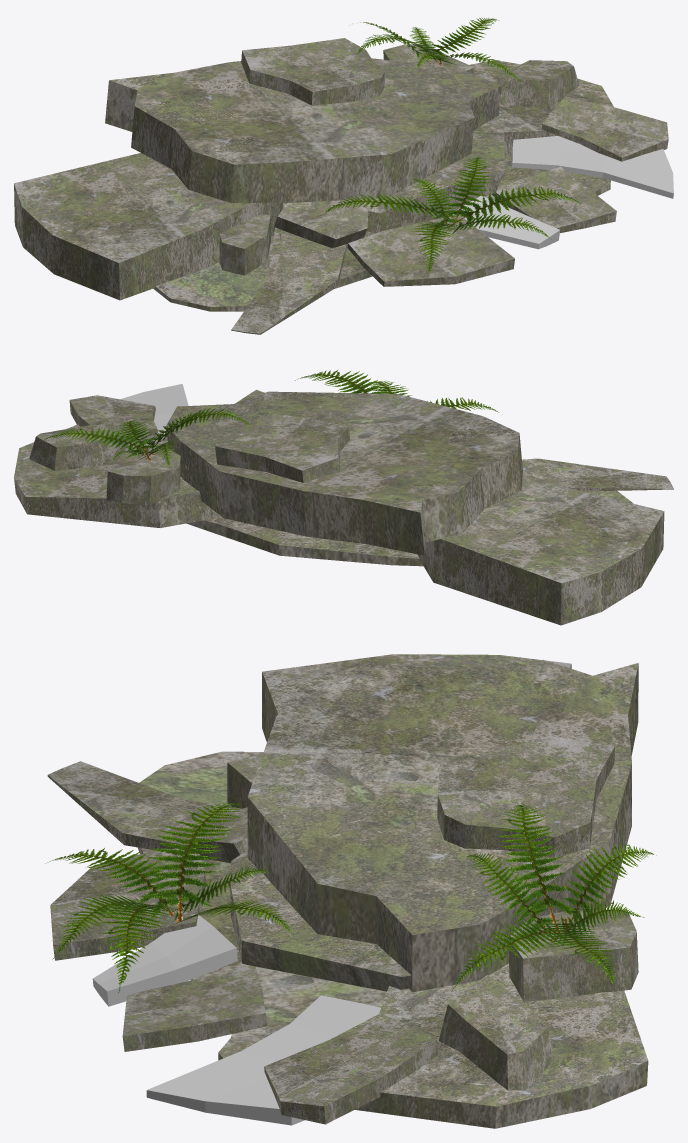
The model's file is pedras.fbx.
3 views of the same model, one above another, from view 1: azimuth 30°, elevation 25°; view 2: azimuth 150°, elevation 25°; view 3: azimuth 270°, elevation 25° (orthographic). The views are drawn at different scales.
Visible parts, largest first — view 1: Plane.013; view 2: Plane.013; view 3: Plane.013.
Part boxes in pixels (x1,y1,x2,y2): Plane.013: [14, 17, 673, 334]; Plane.013: [14, 369, 673, 625]; Plane.013: [45, 654, 656, 1128].
Size of the model in its own units: 244 by 45.06 by 158.
